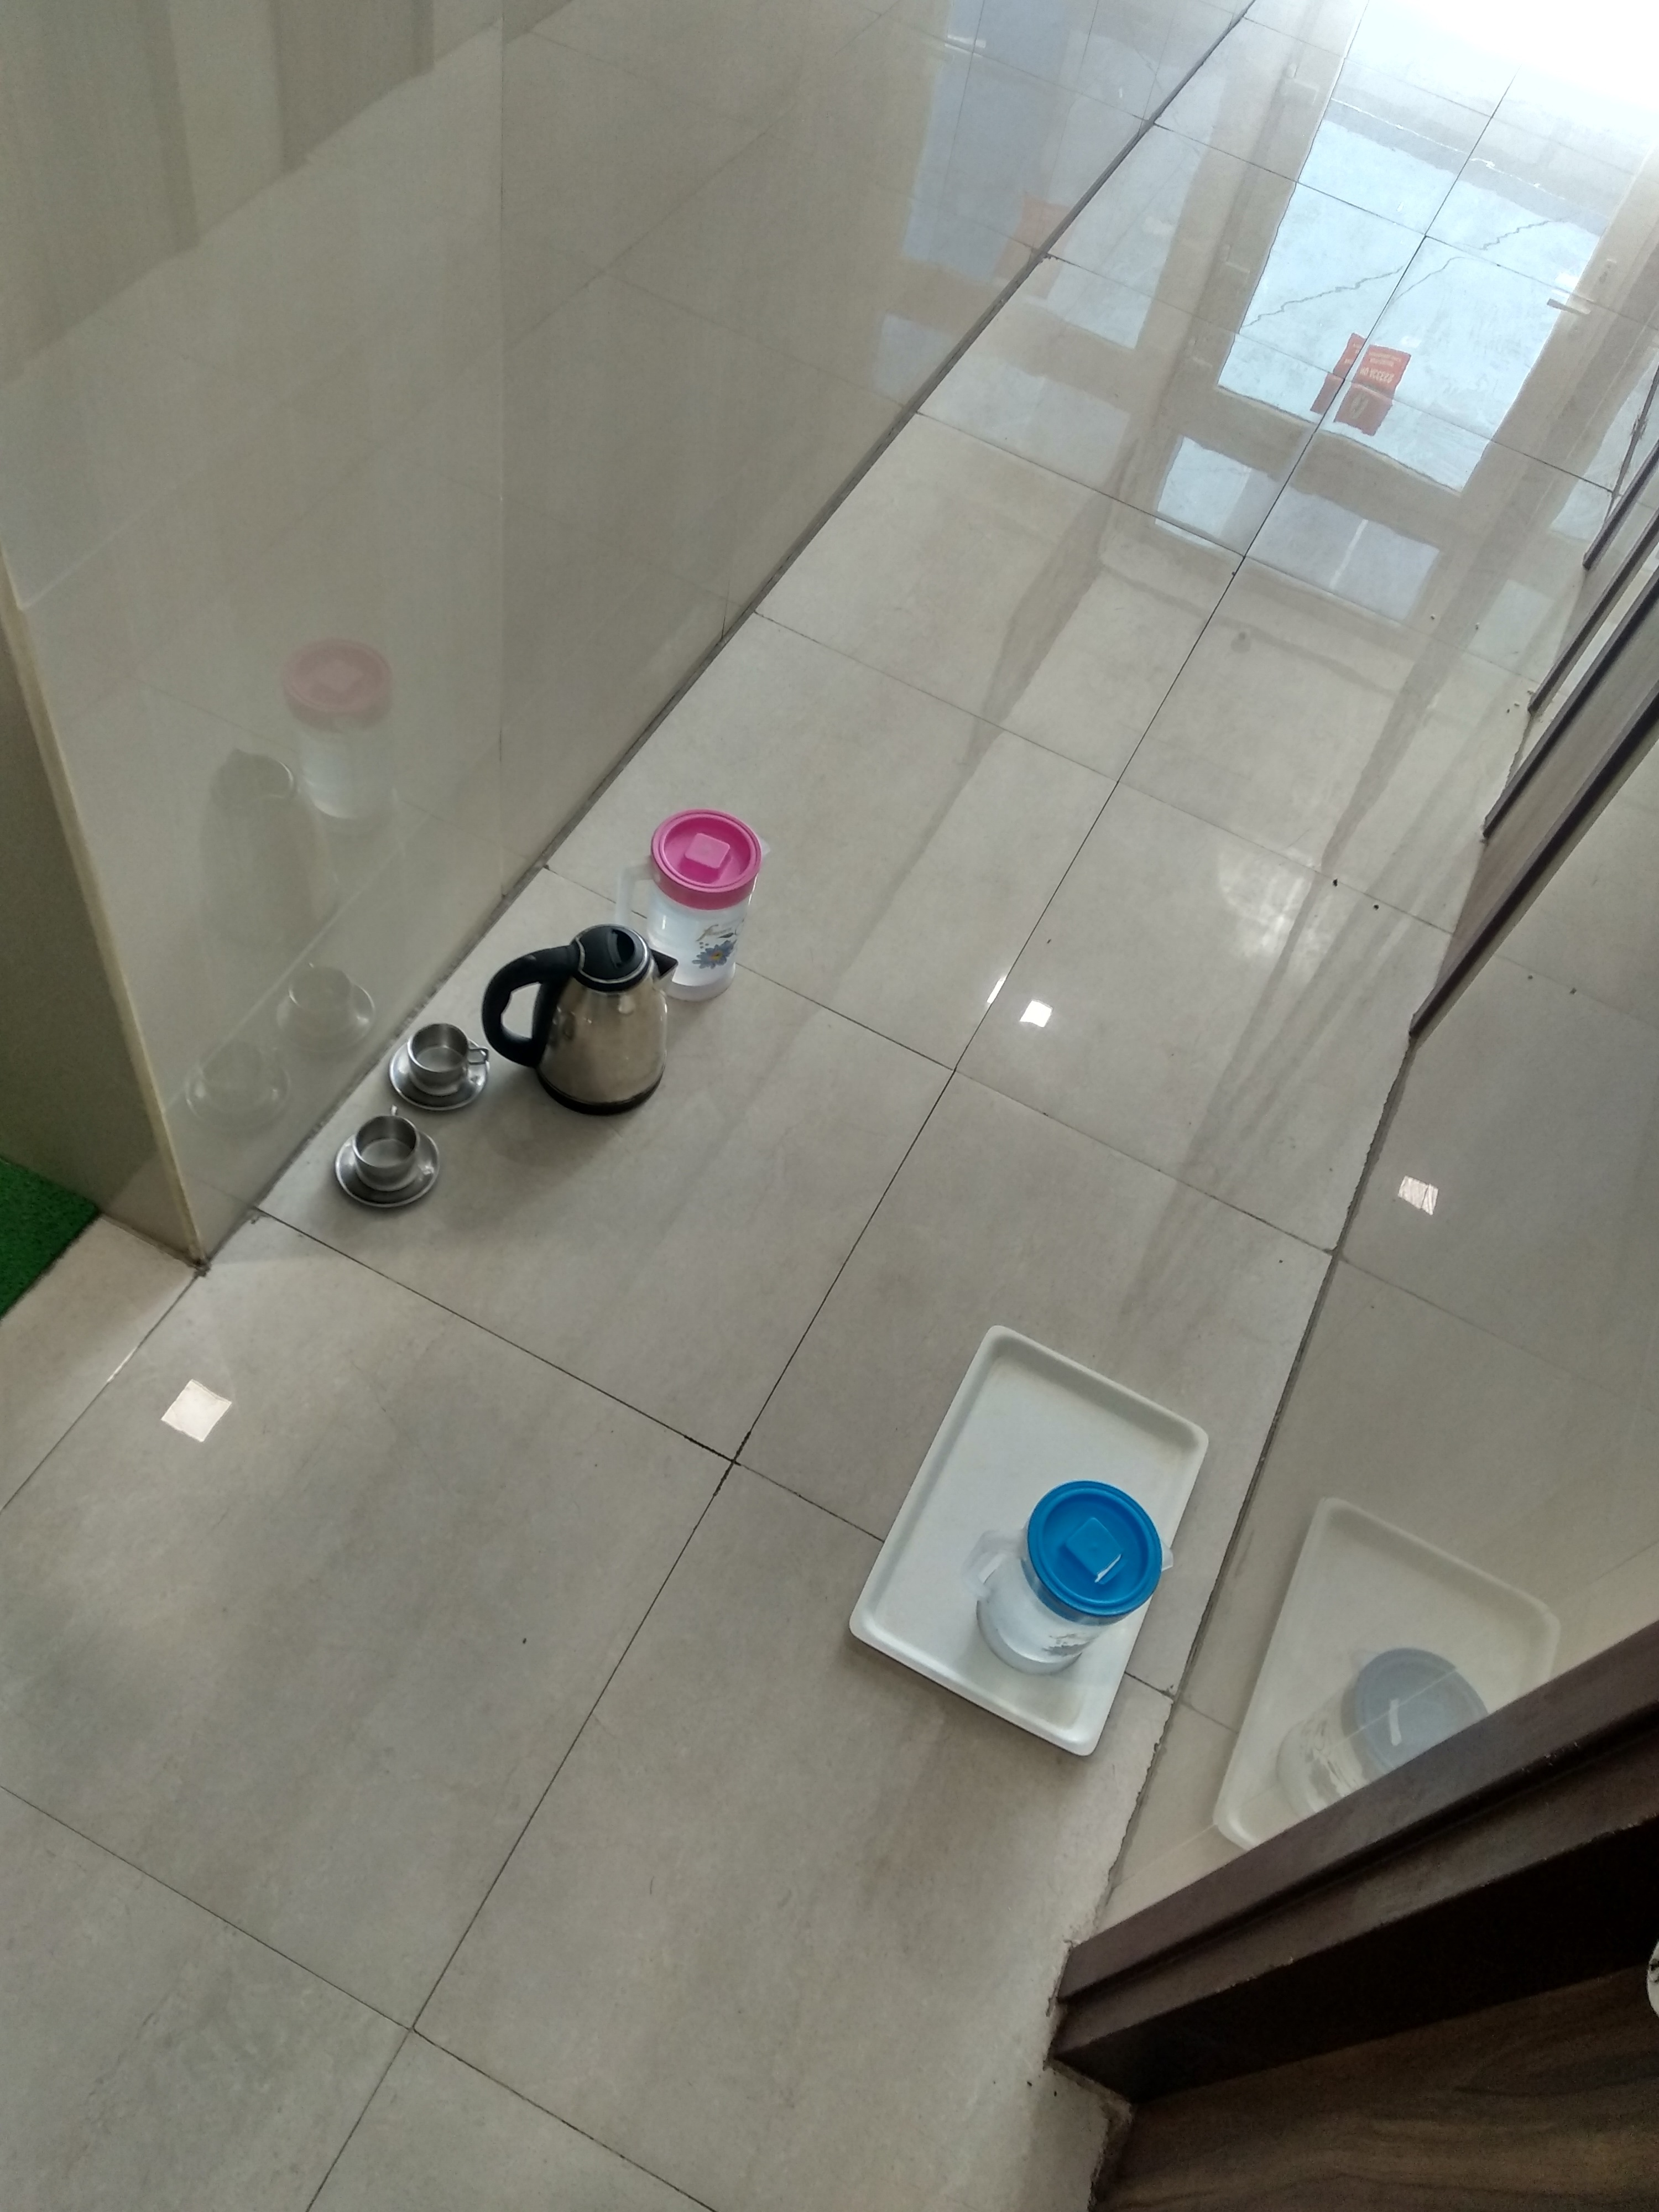CUP: (329, 1104, 443, 1228), (387, 1015, 495, 1111)
JUG: (967, 1451, 1185, 1705), (481, 914, 706, 1122), (622, 812, 786, 1005)
